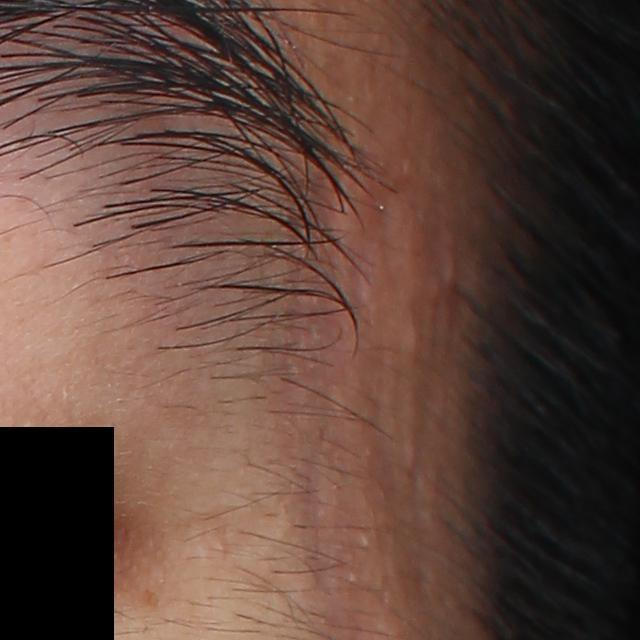melasma: (138, 585, 159, 612)
